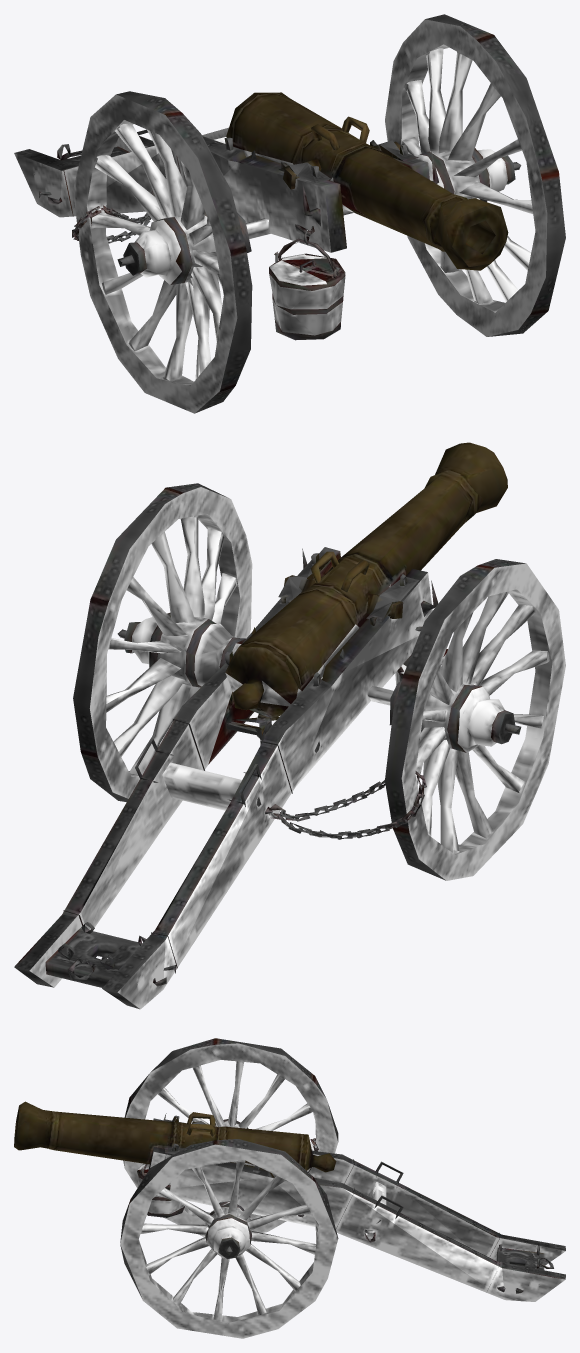
Rendered from cannon.glb.
3 views of the same model, one above another, from view 1: azimuth 30°, elevation 25°; view 2: azimuth 150°, elevation 25°; view 3: azimuth 270°, elevation 25° (orthographic). The views are drawn at different scales.
Visible parts, largest first — view 1: cannon; view 2: cannon; view 3: cannon.
Part boxes in pixels (box(x1,y1,x2,y2)): cannon: box(14, 14, 565, 413); cannon: box(14, 442, 565, 1009); cannon: box(14, 1038, 565, 1338).
Size of the model in its own units: 2.77 by 1.95 by 5.
2 materials, 2 textured.
